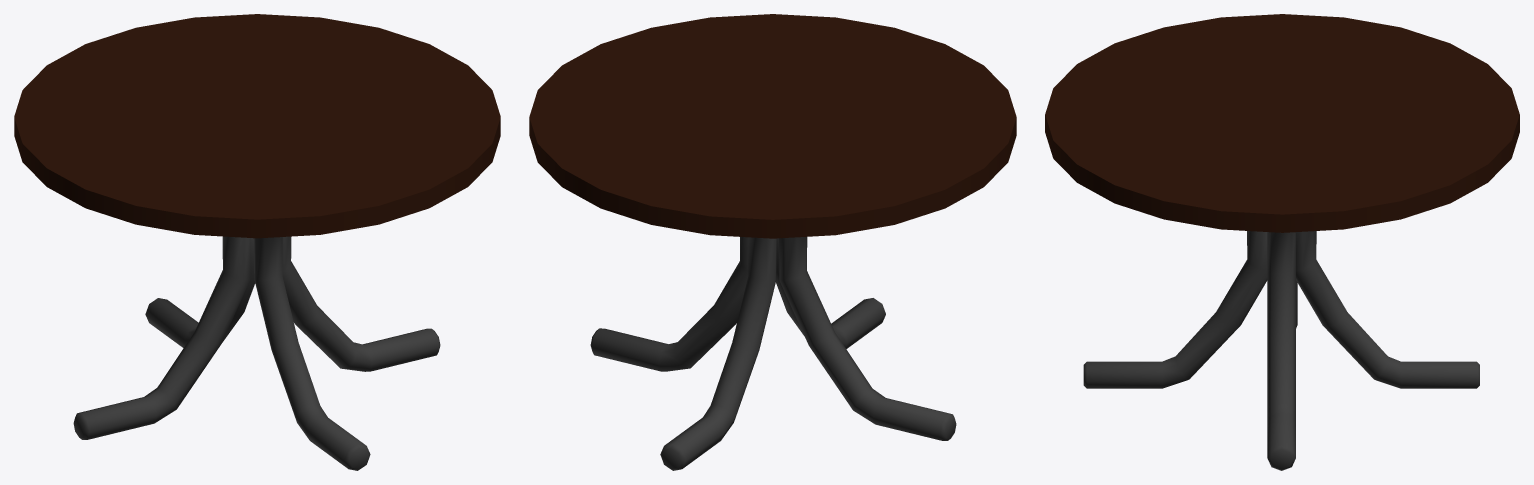
File: 3D_ENVTA_001.FBX
3 views of the same model, side by side, from view 1: azimuth 30°, elevation 25°; view 2: azimuth 150°, elevation 25°; view 3: azimuth 270°, elevation 25° (orthographic). The views are drawn at different scales.
Parts seen in each view (by area): view 1: TableTop, TableLegs; view 2: TableTop, TableLegs; view 3: TableTop, TableLegs.
Boxes of the visible parts, bbox=[...] form: TableTop: bbox=[14, 14, 500, 238]; TableLegs: bbox=[73, 236, 440, 470]; TableTop: bbox=[529, 14, 1016, 238]; TableLegs: bbox=[590, 237, 956, 470]; TableTop: bbox=[1045, 14, 1519, 232]; TableLegs: bbox=[1083, 231, 1479, 470].
Bounding box in the file's own units: 121 × 77.29 × 121.
